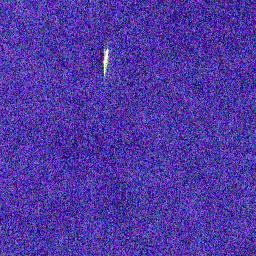Ship: (100, 48, 110, 73)
